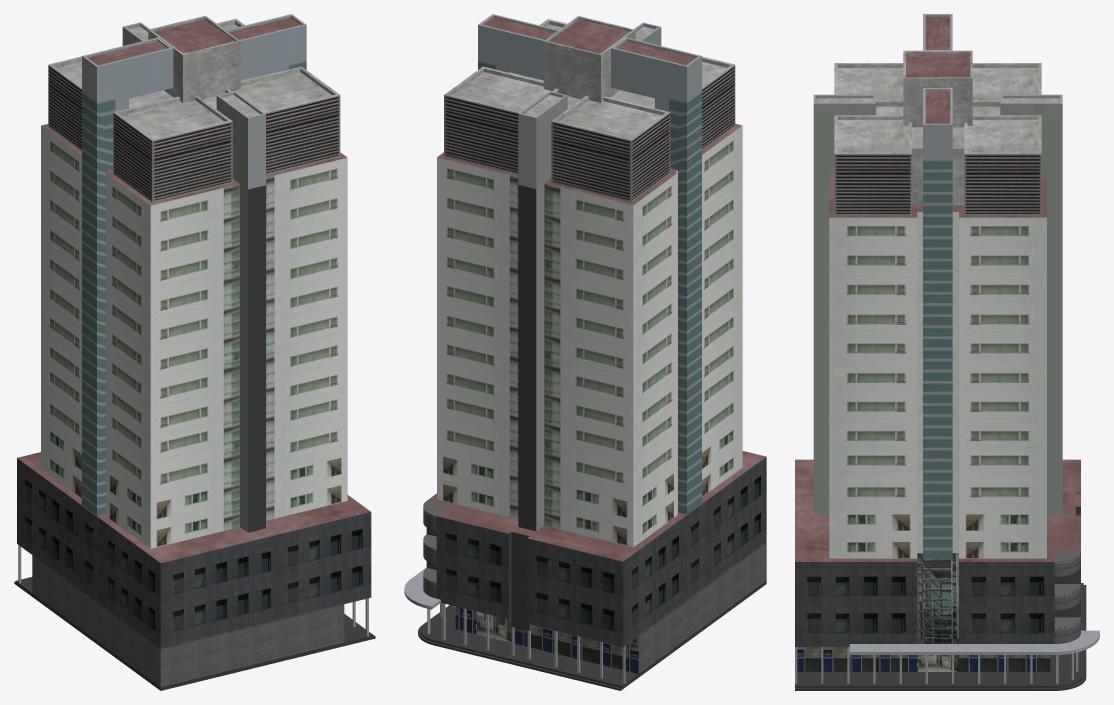
The picture shows the model from 3 angles, left to right: view 1: azimuth 30°, elevation 25°; view 2: azimuth 150°, elevation 25°; view 3: azimuth 270°, elevation 25°; orthographic projection.
Parts seen in each view (by area): view 1: HN1068___Havana_Vietnam; view 2: HN1068___Havana_Vietnam; view 3: HN1068___Havana_Vietnam.
Part boxes in pixels (bbox=[...]): HN1068___Havana_Vietnam: bbox=[14, 14, 375, 690]; HN1068___Havana_Vietnam: bbox=[404, 14, 766, 690]; HN1068___Havana_Vietnam: bbox=[795, 14, 1099, 690].
Size of the model in its own units: 24.9 by 60.54 by 29.17.
Materials: 1 (1 with a texture image).
